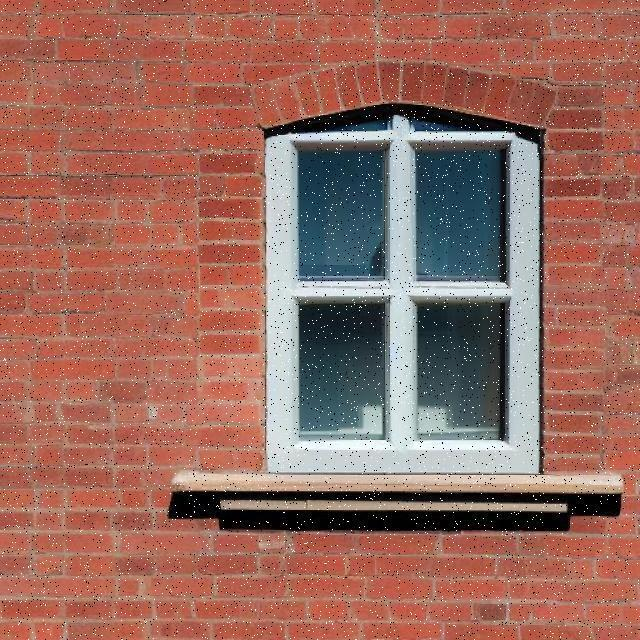window: (263, 130, 540, 471)
